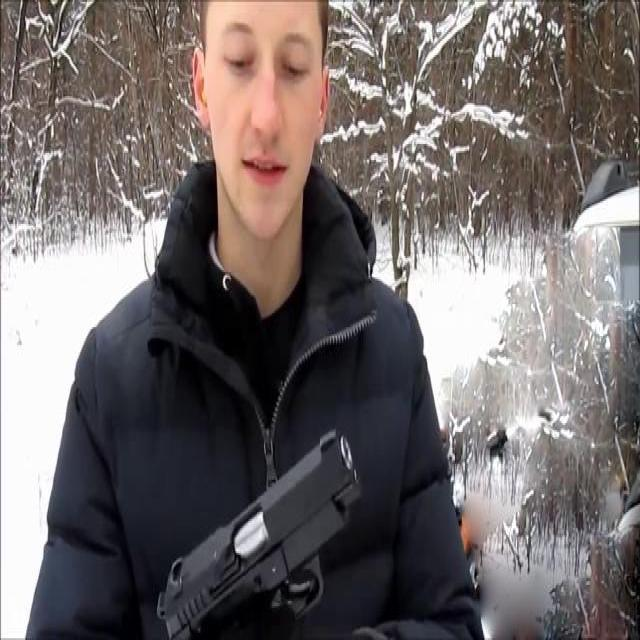pistol: (156, 423, 367, 640)
